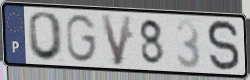3: (174, 17, 202, 70)
8: (138, 18, 167, 67)
G: (65, 13, 99, 64)
O: (27, 10, 66, 63)
S: (206, 19, 242, 74)
V: (98, 13, 135, 68)
